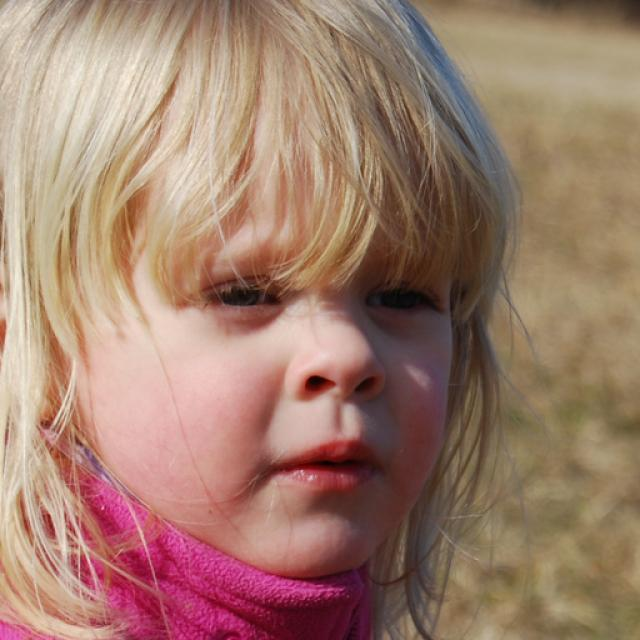sad: (110, 115, 456, 574)
